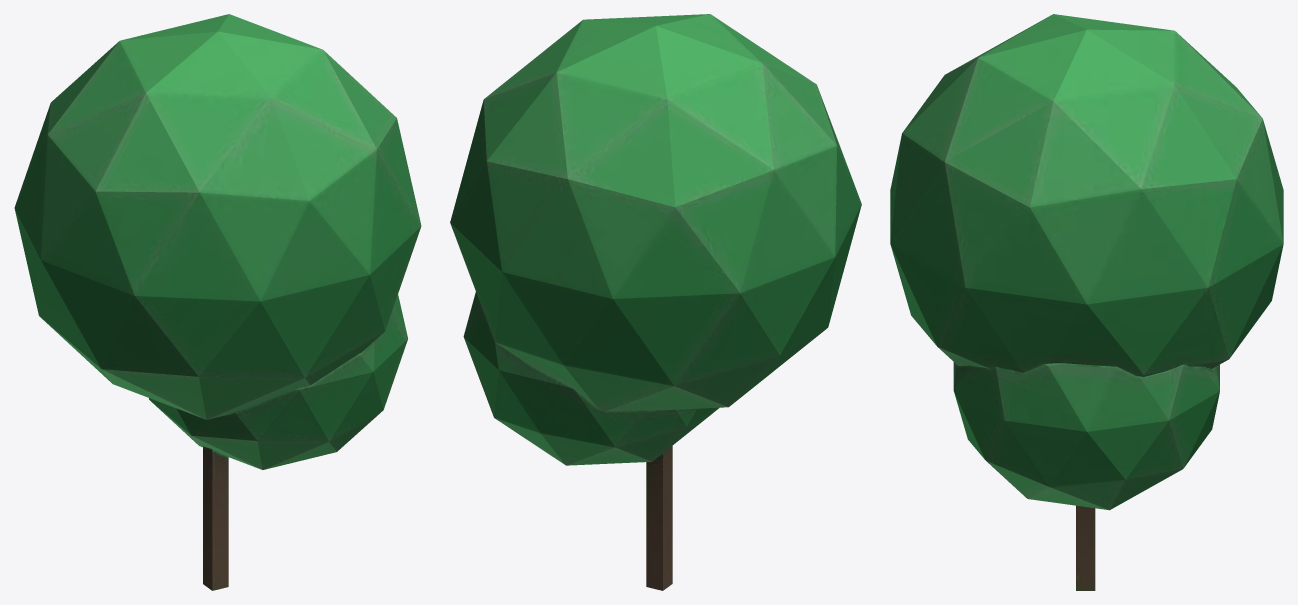
Rendered from Tree_poly04.gltf.
The picture shows the model from 3 angles, left to right: view 1: azimuth 30°, elevation 25°; view 2: azimuth 150°, elevation 25°; view 3: azimuth 270°, elevation 25°; orthographic projection.
Parts seen in each view (by area): view 1: metalTree_poly04; view 2: metalTree_poly04; view 3: metalTree_poly04.
Part boxes in pixels (x1=…): metalTree_poly04: x1=14, y1=14, x2=421, y2=590; metalTree_poly04: x1=450, y1=14, x2=861, y2=590; metalTree_poly04: x1=890, y1=14, x2=1283, y2=590.
Size of the model in its own units: 51.66 by 77 by 49.13.
Materials: 1 (1 with a texture image).
